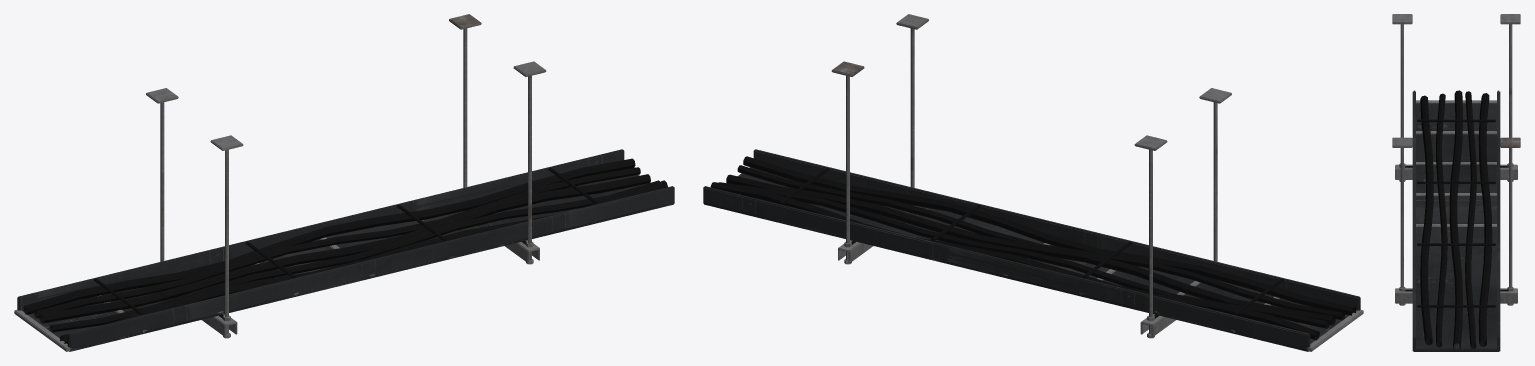
Rendered from cable_tray_straight.gltf.
The picture shows the model from 3 angles, left to right: view 1: azimuth 30°, elevation 25°; view 2: azimuth 150°, elevation 25°; view 3: azimuth 270°, elevation 25°; orthographic projection. The views are drawn at different scales.
Visible parts, largest first — view 1: Body; view 2: Body; view 3: Body.
Boxes of the visible parts, box(x1,y1,x2,y2) form: Body: box(14, 14, 674, 351); Body: box(703, 14, 1363, 351); Body: box(1392, 14, 1520, 351).
Bounding box in the file's own units: 2.01 × 0.615 × 0.44.
3 materials, 3 textured.
